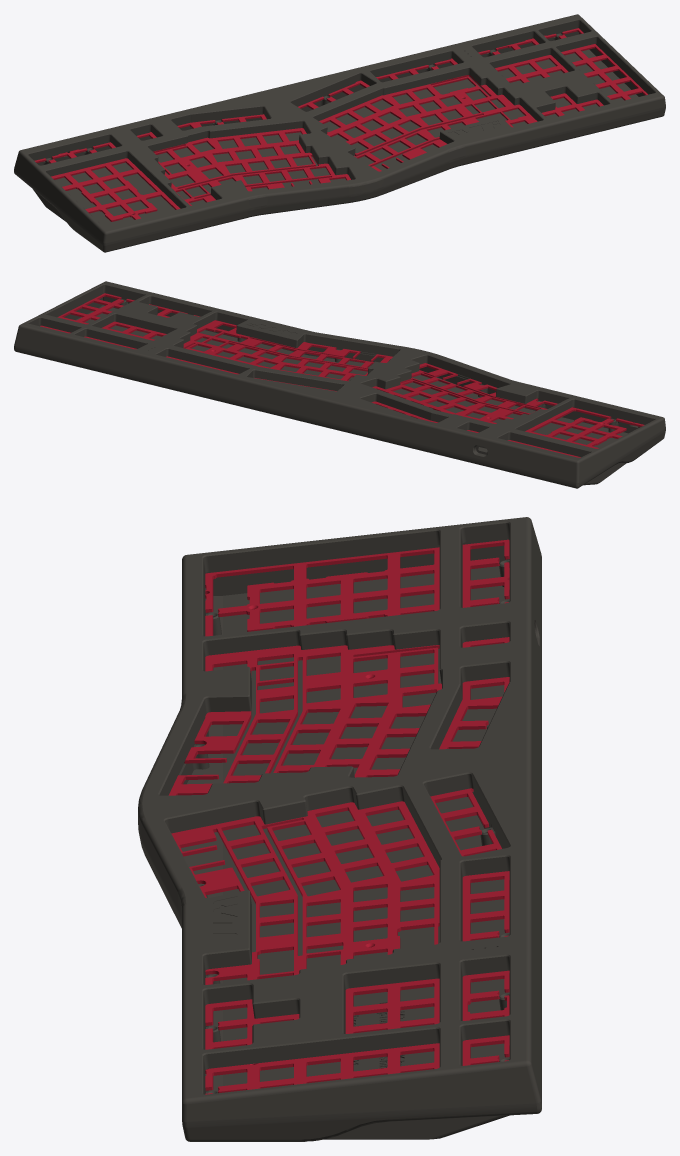
Rendered from witf-keyboard.glb.
3 views of the same model, one above another, from view 1: azimuth 30°, elevation 25°; view 2: azimuth 150°, elevation 25°; view 3: azimuth 270°, elevation 25° (orthographic). The views are drawn at different scales.
Visible parts, largest first — view 1: empty_2, empty_3, empty_4; view 2: empty_2, empty_3, empty_4; view 3: empty_2, empty_3, empty_4.
Part boxes in pixels (<box>): empty_2: <box>14,14,665,252</box>; empty_3: <box>34,28,647,221</box>; empty_4: <box>33,31,640,226</box>; empty_2: <box>14,281,665,488</box>; empty_3: <box>40,293,644,457</box>; empty_4: <box>72,296,640,485</box>; empty_2: <box>138,517,541,1141</box>; empty_3: <box>168,539,509,1094</box>; empty_4: <box>178,559,509,1139</box>.
Bounding box in the file's own units: 528 × 36.02 × 163.
